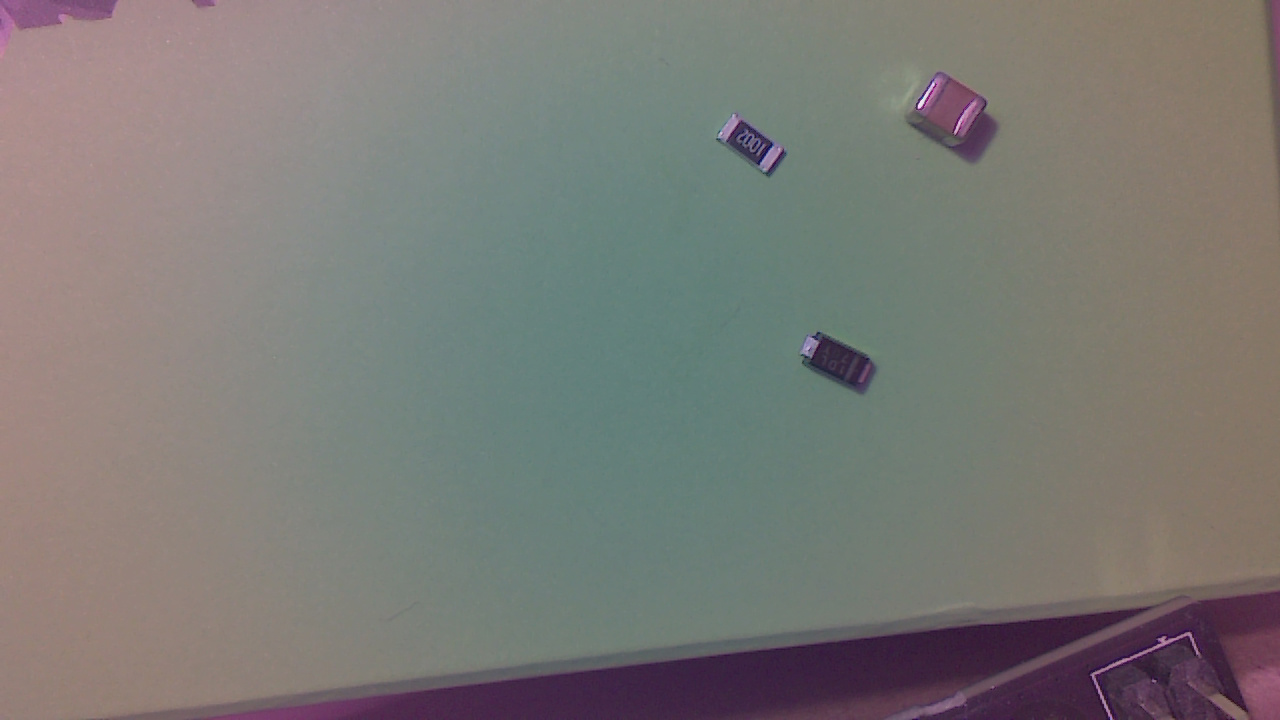Condensator: (908, 80, 998, 155)
Diode: (806, 336, 883, 396)
Resistor: (719, 119, 790, 180)
